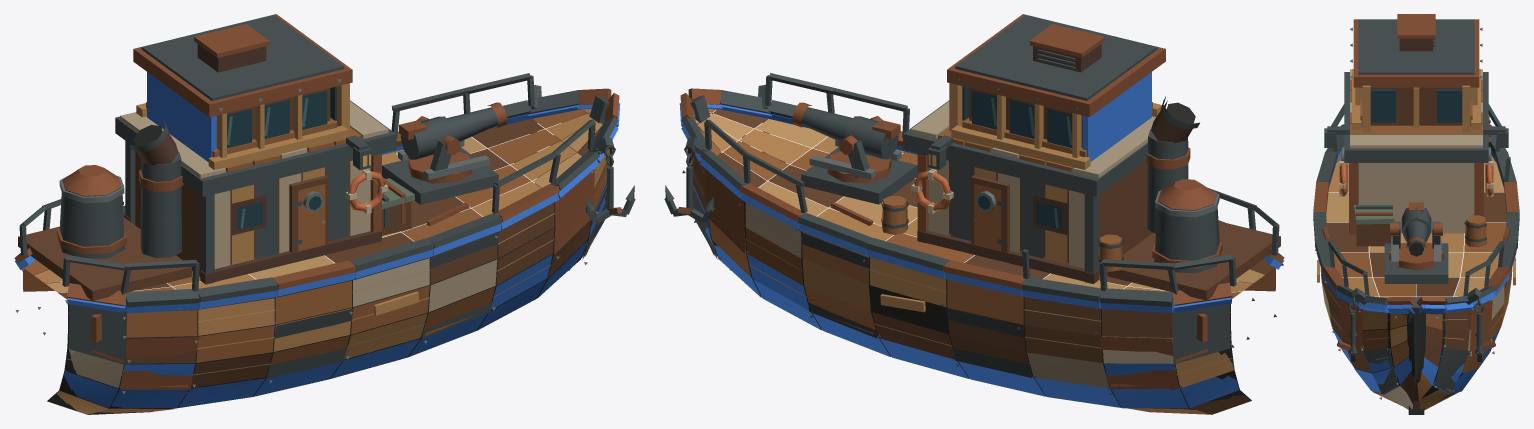
3 renders of one model, left to right at view 1: azimuth 30°, elevation 25°; view 2: azimuth 150°, elevation 25°; view 3: azimuth 270°, elevation 25°, orthographic. The views are drawn at different scales.
Parts seen in each view (by area): view 1: 破坏者 · 拼补巡洋舰; view 2: 破坏者 · 拼补巡洋舰; view 3: 破坏者 · 拼补巡洋舰.
Boxes of the visible parts, x1,y1,x2,y2 form: 破坏者 · 拼补巡洋舰: [14, 14, 635, 414]; 破坏者 · 拼补巡洋舰: [664, 14, 1284, 414]; 破坏者 · 拼补巡洋舰: [1313, 14, 1519, 414].
Size of the model in its own units: 1.65 by 0.97 by 0.6206.
